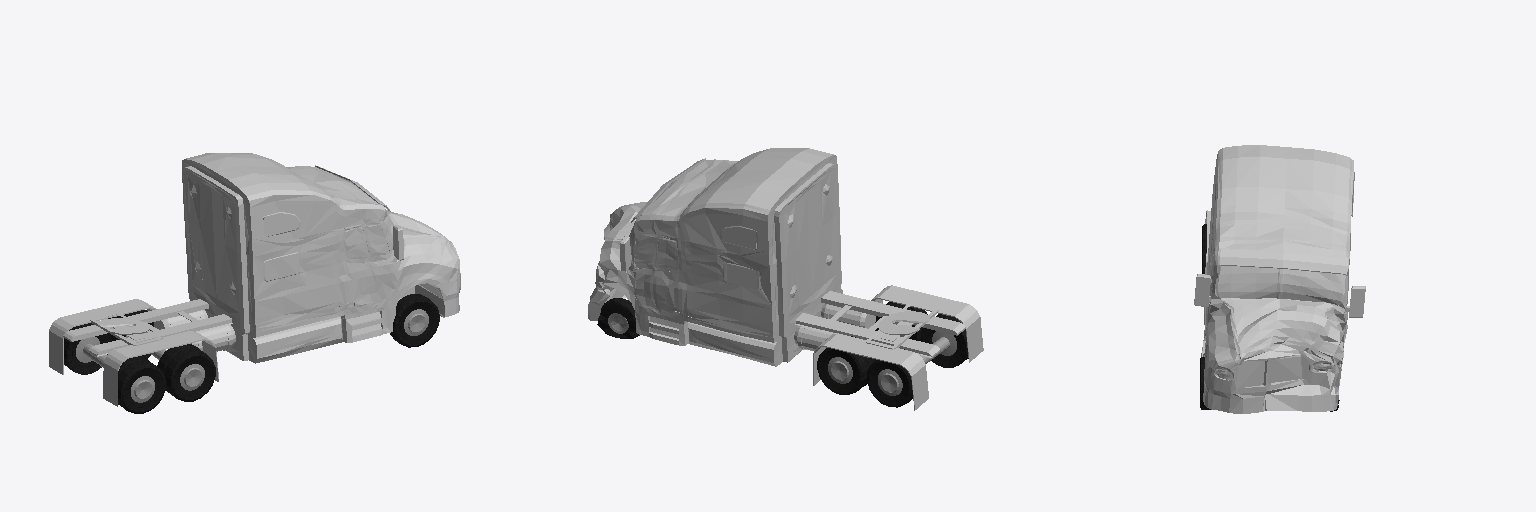
3 renders of one model, left to right at view 1: azimuth 30°, elevation 25°; view 2: azimuth 150°, elevation 25°; view 3: azimuth 270°, elevation 25°, orthographic.
Visible parts, largest first — view 1: Truck, Torus, CrashTire; view 2: Truck, Torus, CrashTire; view 3: Truck.
Boxes of the visible parts, <box> form: Truck: <box>49,153,460,406</box>; Torus: <box>64,310,215,413</box>; CrashTire: <box>390,294,439,347</box>; Truck: <box>588,148,983,410</box>; Torus: <box>817,302,968,407</box>; CrashTire: <box>597,298,639,338</box>; Truck: <box>1194,145,1365,413</box>.
Size of the model in its own units: 6.06 by 3.02 by 2.52.
Materials: 2 (1 with a texture image).